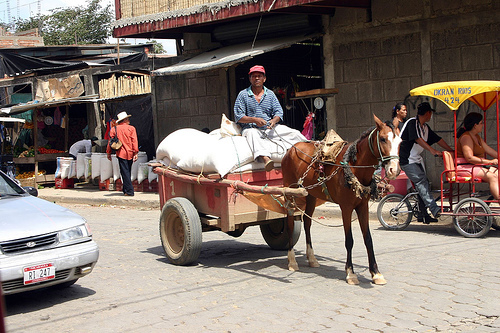horse: (281, 112, 404, 288)
